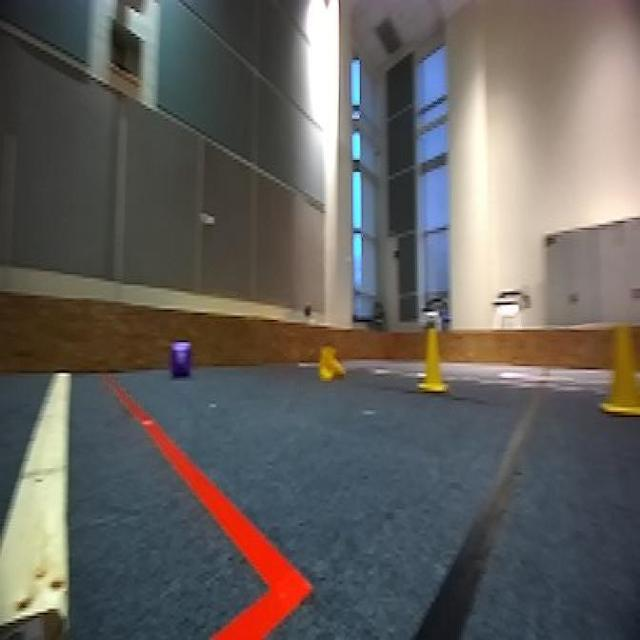frc_cone: (592, 326, 640, 414), (416, 318, 451, 395), (316, 344, 349, 381)
frc_cube: (168, 339, 194, 378)
